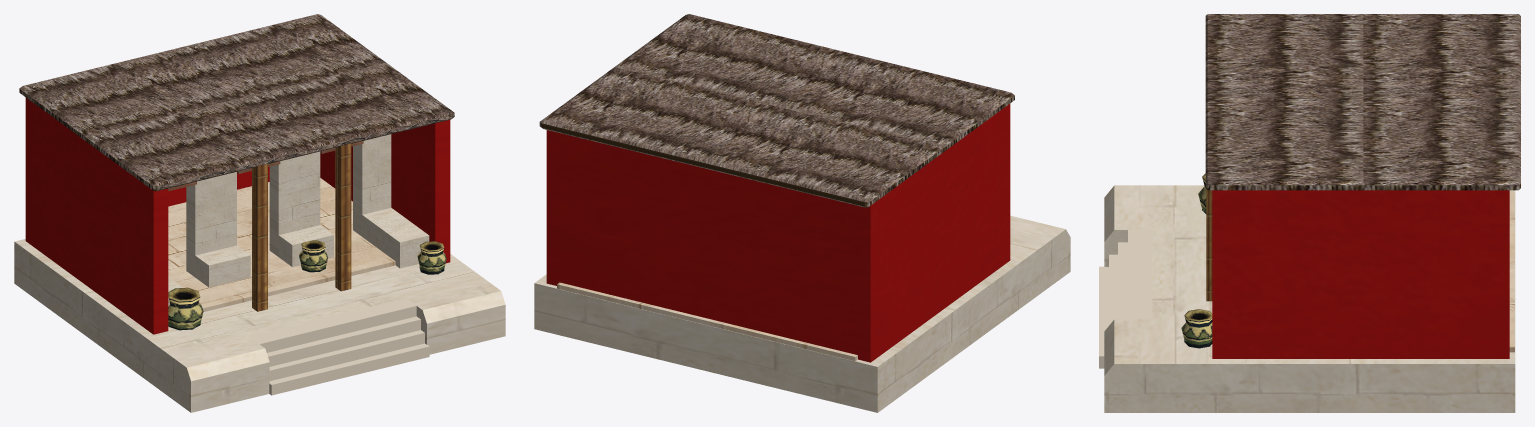
File: house_1.dae
3 views of the same model, side by side, from view 1: azimuth 30°, elevation 25°; view 2: azimuth 150°, elevation 25°; view 3: azimuth 270°, elevation 25° (orthographic). The views are drawn at different scales.
Visible parts, largest first — view 1: house_1; view 2: house_1; view 3: house_1.
Part boxes in pixels (left/top/right/bottom): house_1: left=14, top=14, right=505, bottom=412; house_1: left=534, top=14, right=1070, bottom=412; house_1: left=1099, top=14, right=1520, bottom=412.
Bounding box in the file's own units: 16.03 × 16.01 × 9.46.
